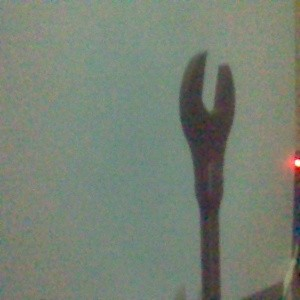spanner: (178, 50, 236, 300)
